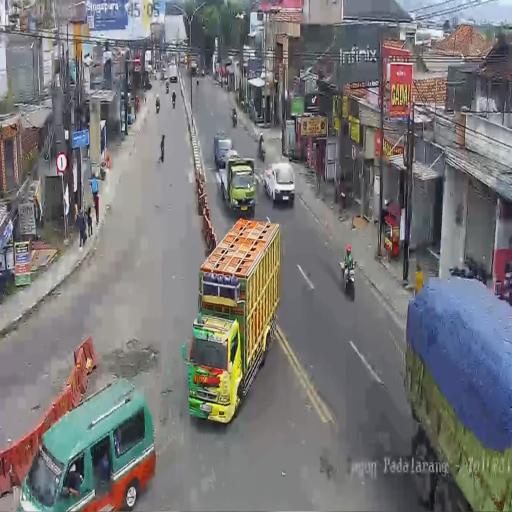car: (15, 377, 155, 511), (264, 162, 294, 205), (213, 132, 232, 169), (161, 68, 167, 81)
motorcycle: (340, 255, 357, 299), (258, 139, 266, 161), (232, 110, 237, 128), (165, 81, 169, 94), (204, 67, 209, 77), (201, 68, 205, 78)
truck: (182, 216, 280, 422), (217, 151, 256, 216), (186, 53, 199, 75), (168, 61, 178, 83)
